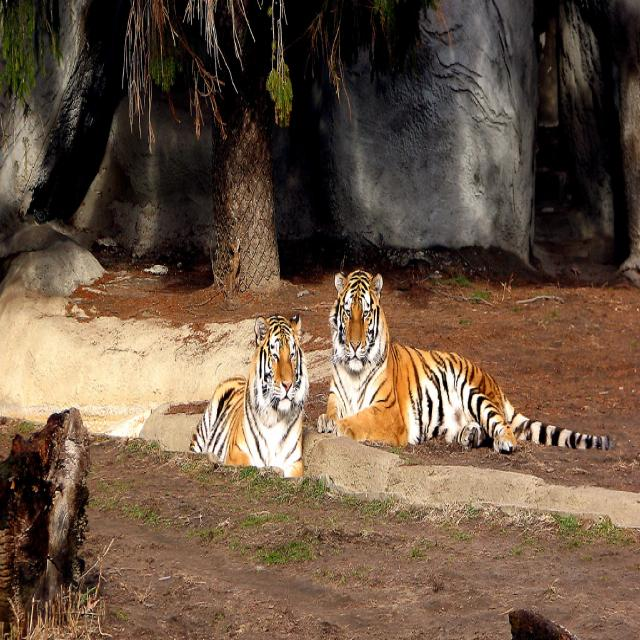Tiger: (313, 271, 609, 449), (183, 314, 310, 489)
